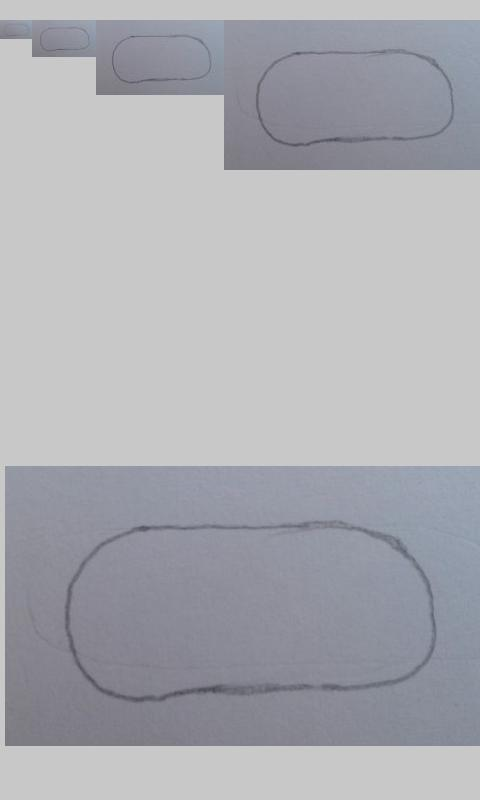chip: (65, 521, 439, 704), (256, 49, 455, 147), (112, 34, 212, 84), (39, 26, 90, 52), (2, 22, 31, 37)
